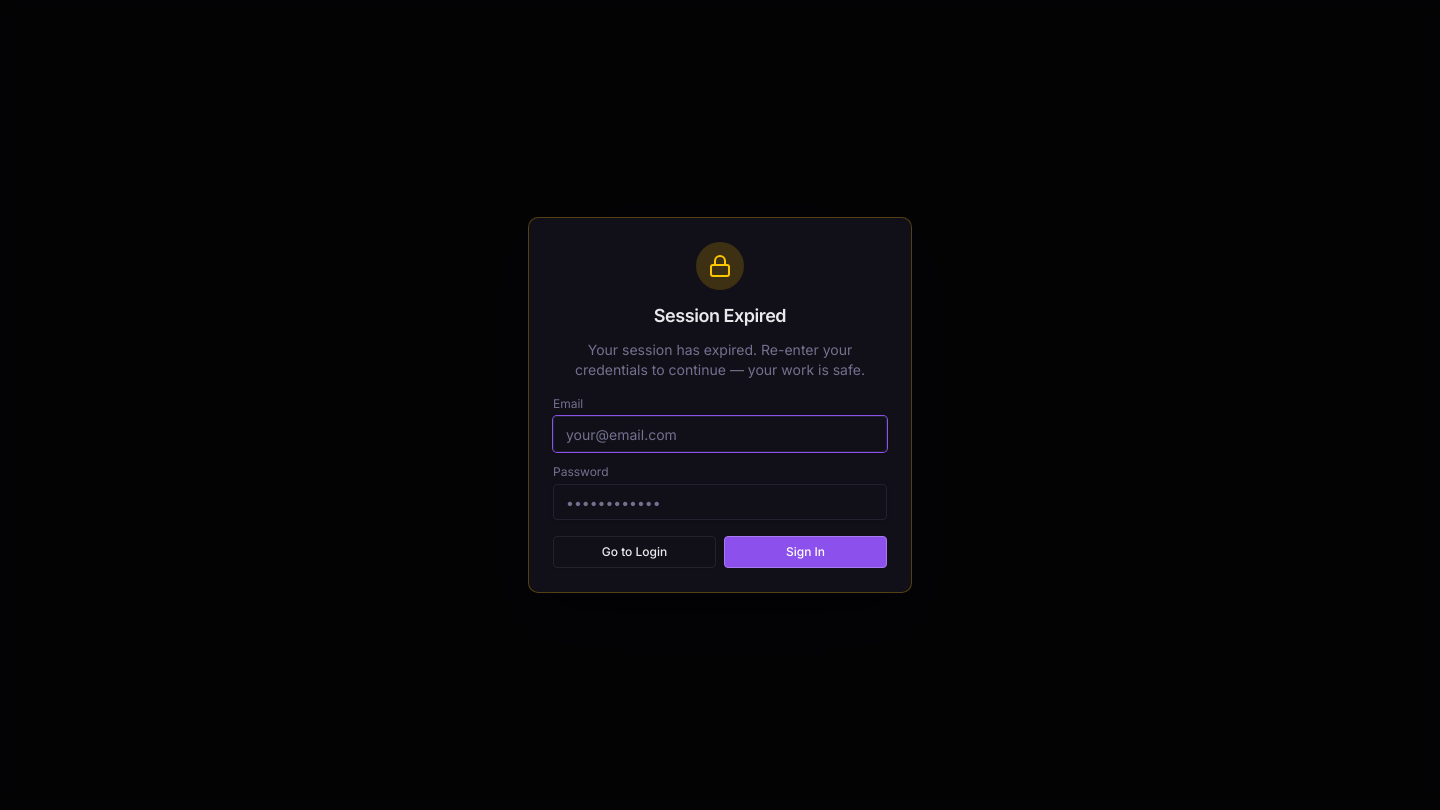
SessionExpiryModal › shows error when 'Sign In' is clicked with empty credentials
The image size is (1440, 810).
Expected: the text "Session Expired" is shown, [654, 305, 786, 326]
Click the button "Sign In" at (806,552), box [724, 536, 887, 568]
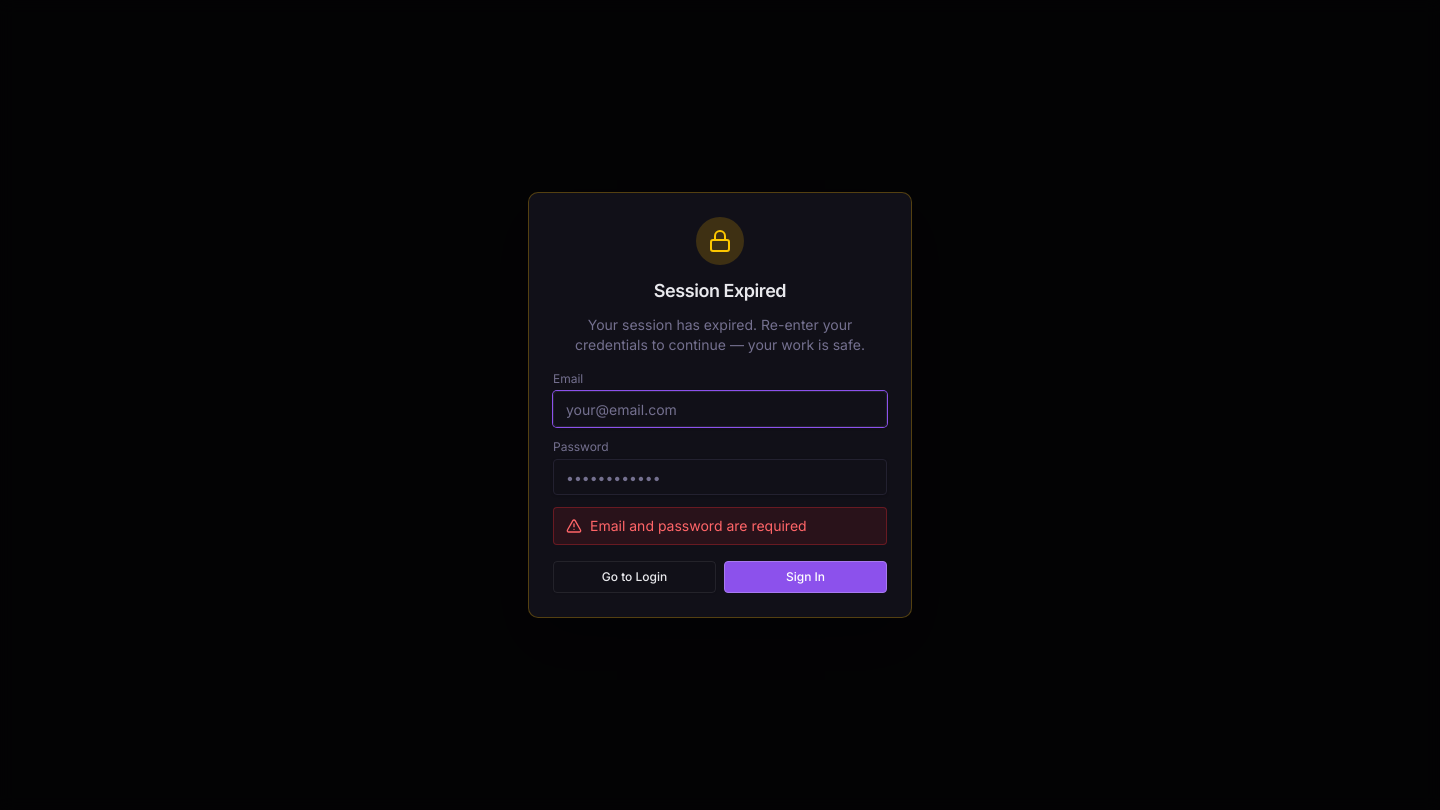
Now the text "Email and password are required" is shown, box [553, 507, 887, 545]
